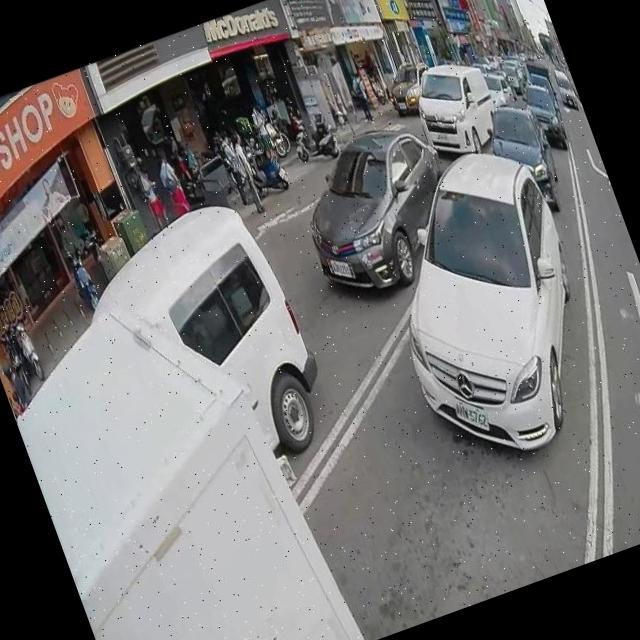person: (224, 130, 268, 217), (212, 130, 254, 209), (134, 160, 172, 232), (152, 150, 192, 218), (246, 101, 281, 165), (161, 130, 197, 186), (347, 72, 374, 125)
